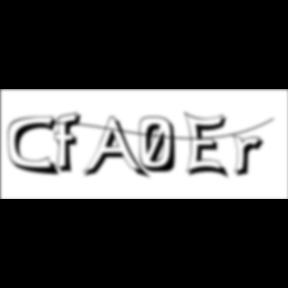0: (138, 115, 184, 174)
A: (82, 116, 152, 182)
C: (8, 115, 62, 178)
E: (184, 110, 234, 182)
f: (55, 111, 88, 175)
r: (232, 134, 270, 180)
